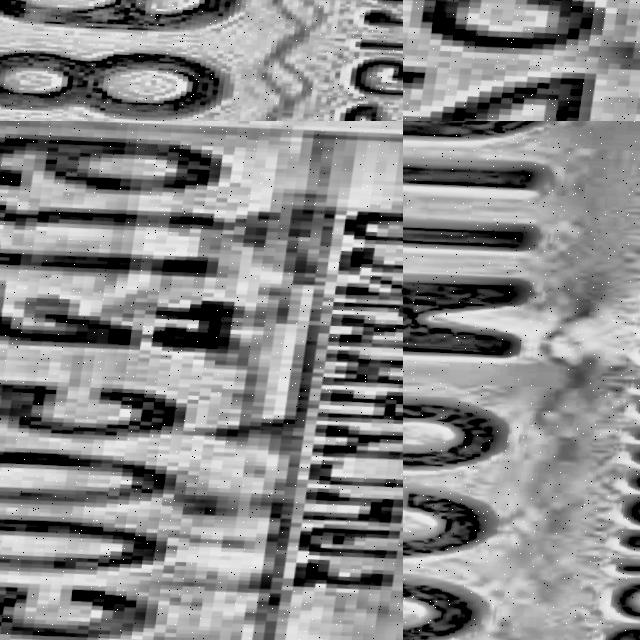license-plate: (0, 121, 403, 640), (403, 121, 640, 640), (0, 0, 403, 121), (403, 0, 640, 121)
